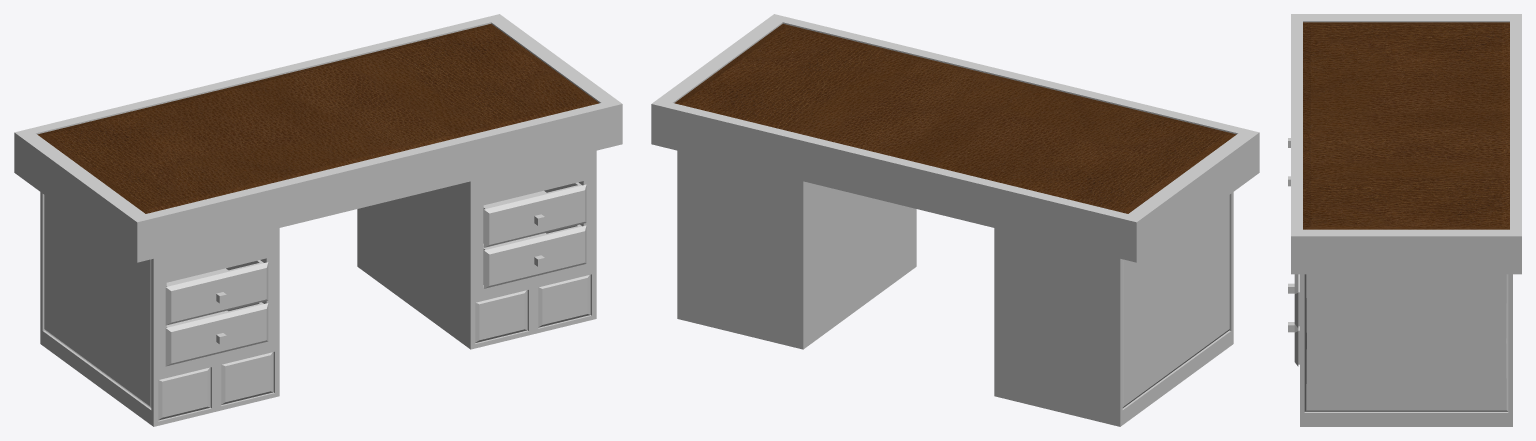
Rendered from Desk.glb.
The picture shows the model from 3 angles, left to right: view 1: azimuth 30°, elevation 25°; view 2: azimuth 150°, elevation 25°; view 3: azimuth 270°, elevation 25°; orthographic projection. The views are drawn at different scales.
Parts seen in each view (by area): view 1: Desk, Drawer_TR, Drawer_TL, Drawer_BL, Drawer_BR; view 2: Desk; view 3: Desk, Drawer_TR, Drawer_BR.
Boxes of the visible parts, bbox=[...] form: Desk: bbox=[14, 14, 622, 426]; Drawer_TR: bbox=[483, 182, 586, 247]; Drawer_TL: bbox=[165, 260, 268, 325]; Drawer_BL: bbox=[165, 302, 268, 366]; Drawer_BR: bbox=[483, 224, 586, 288]; Desk: bbox=[651, 14, 1259, 426]; Desk: bbox=[1291, 14, 1521, 426]; Drawer_TR: bbox=[1288, 274, 1299, 327]; Drawer_BR: bbox=[1288, 322, 1299, 366].
Bounding box in the file's own units: 3.98 × 1.67 × 1.77.
2 materials, 1 textured.
